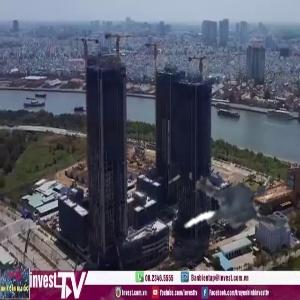drone: (164, 142, 298, 276)
